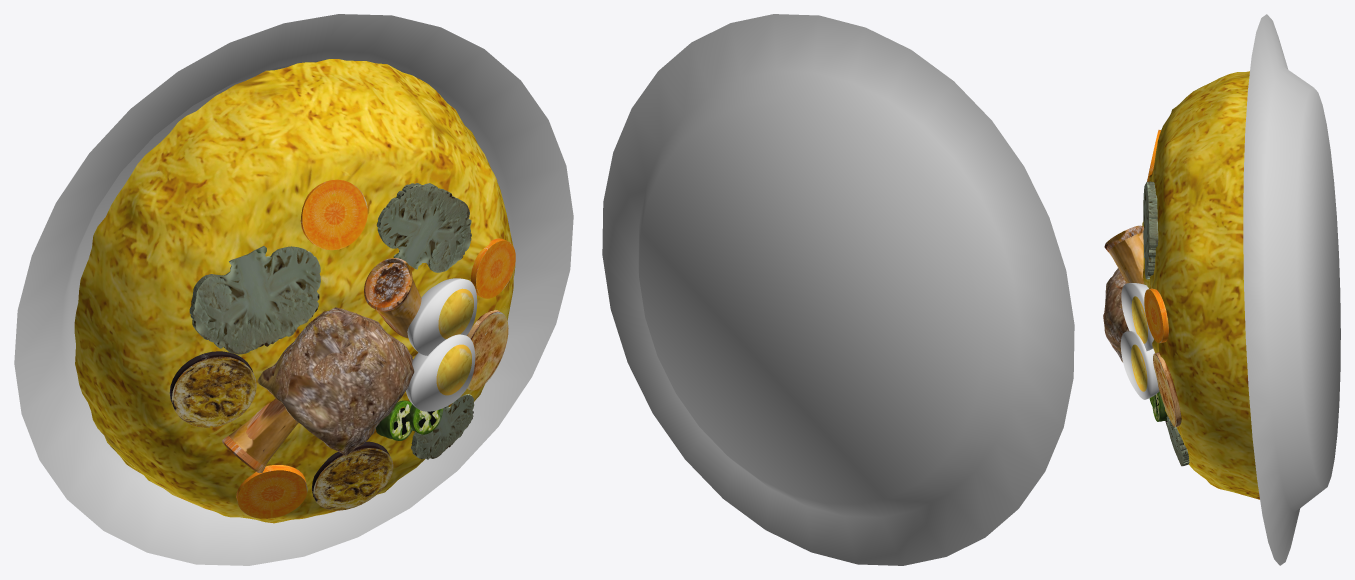
File: maqloobahmtn-v6.glb
3 renders of one model, left to right at view 1: azimuth 30°, elevation 25°; view 2: azimuth 150°, elevation 25°; view 3: azimuth 270°, elevation 25°, orthographic. The views are drawn at different scales.
Parts seen in each view (by area): view 1: Sphere.002, Circle.002, Cube, Vert, Vert.003, Cylinder.004, Cylinder.008, Sphere, Cylinder.001, Sphere.001, Cylinder.002, Cylinder.005 (+6 smaller); view 2: Circle.002; view 3: Circle.002, Sphere.002, Sphere, Cylinder.002, Cube, Sphere.001, Vert.003, Cylinder.003, Cylinder.017, Vert.001, Cylinder.009.
Part boxes in pixels (x1,y1,x2,y2): Sphere.002: [74, 59, 515, 523]; Circle.002: [14, 14, 573, 565]; Cube: [257, 307, 414, 456]; Vert: [189, 246, 320, 354]; Vert.003: [376, 183, 471, 272]; Cylinder.004: [169, 351, 256, 427]; Cylinder.008: [312, 441, 393, 510]; Sphere: [406, 334, 475, 411]; Cylinder.001: [300, 179, 367, 250]; Sphere.001: [407, 278, 477, 355]; Cylinder.002: [364, 258, 421, 338]; Cylinder.005: [236, 464, 307, 518]; Circle.002: [602, 14, 1074, 565]; Circle.002: [1243, 14, 1340, 565]; Sphere.002: [1142, 71, 1259, 499]; Sphere: [1120, 331, 1159, 399]; Cylinder.002: [1104, 225, 1144, 284]; Cube: [1103, 268, 1129, 362]; Sphere.001: [1121, 283, 1153, 351]; Vert.003: [1143, 181, 1158, 279]; Cylinder.003: [1153, 352, 1181, 427]; Cylinder.017: [1144, 288, 1168, 343]; Vert.001: [1166, 416, 1189, 466]; Cylinder.009: [1151, 391, 1167, 421].
Size of the model in its own units: 7.13 by 7.14 by 3.09.
Materials: 17 (14 with a texture image).
